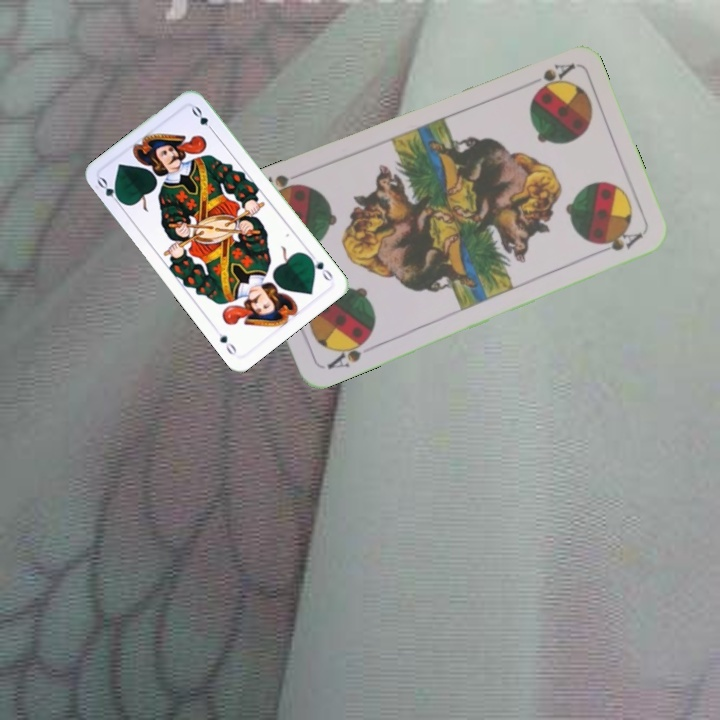GO: (93, 173, 126, 209), (304, 249, 336, 284)
SA: (322, 333, 373, 372), (531, 59, 577, 94)
